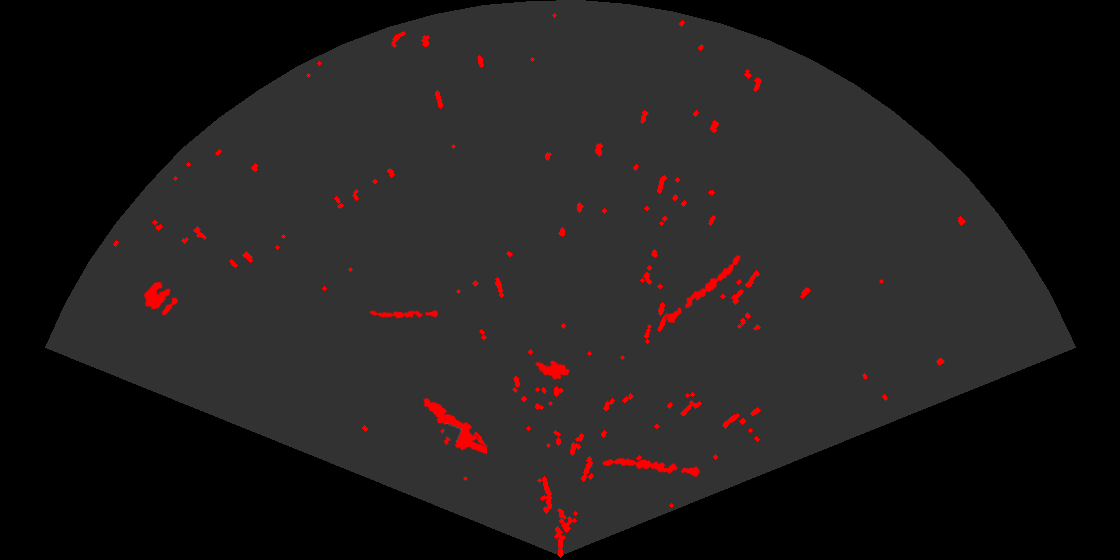AUV: (533, 359, 572, 381)
ball: (142, 280, 180, 317)
chain: (664, 254, 742, 324), (601, 456, 703, 478), (368, 308, 438, 320)
frogman: (422, 397, 487, 456)
